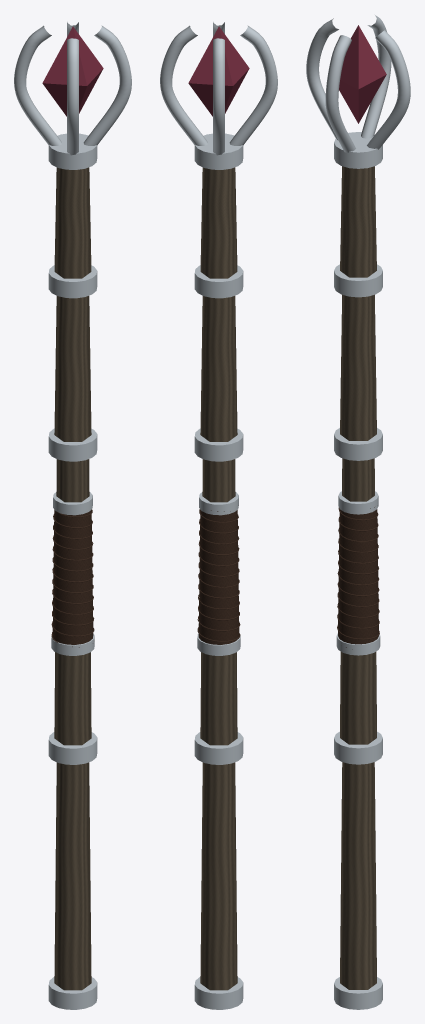
File: corealm_staff_3.glb
The picture shows the model from 3 angles, left to right: view 1: azimuth 30°, elevation 25°; view 2: azimuth 210°, elevation 25°; view 3: azimuth 270°, elevation 25°; orthographic projection.
Parts seen in each view (by area): view 1: corealm-weapon-wood, corealm-weapon-metal, corealm-weapon-leather, corealm-weapon-gem; view 2: corealm-weapon-wood, corealm-weapon-metal, corealm-weapon-leather, corealm-weapon-gem; view 3: corealm-weapon-wood, corealm-weapon-metal, corealm-weapon-leather, corealm-weapon-gem.
Part boxes in pixels (x1,y1,x2,y2): corealm-weapon-wood: (54, 167, 91, 990); corealm-weapon-metal: (14, 22, 131, 1009); corealm-weapon-leather: (51, 509, 94, 647); corealm-weapon-gem: (42, 26, 103, 116); corealm-weapon-wood: (200, 167, 237, 990); corealm-weapon-metal: (160, 22, 277, 1009); corealm-weapon-leather: (197, 509, 240, 644); corealm-weapon-gem: (188, 26, 249, 116); corealm-weapon-wood: (340, 166, 376, 989); corealm-weapon-metal: (306, 15, 410, 1009); corealm-weapon-leather: (337, 507, 379, 649); corealm-weapon-gem: (339, 25, 386, 123).
Size of the model in its own units: 0.1622 by 1.67 by 0.1622.
Materials: 4 (2 with a texture image).
